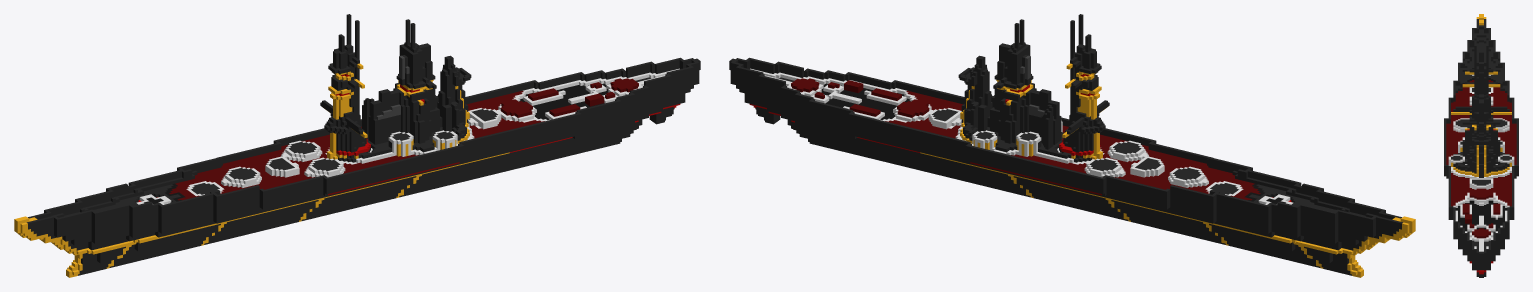
File: ReichBattleshipFirstShip.obj
The picture shows the model from 3 angles, left to right: view 1: azimuth 30°, elevation 25°; view 2: azimuth 150°, elevation 25°; view 3: azimuth 270°, elevation 25°; orthographic projection. The views are drawn at different scales.
Size of the model in its own units: 23.8 by 6.3 by 3.2.
Materials: 1 (1 with a texture image).
